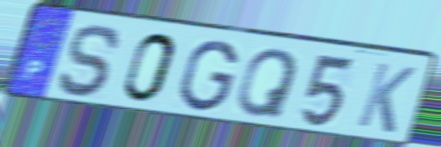0: (120, 31, 177, 106)
5: (297, 51, 360, 129)
G: (176, 38, 240, 114)
K: (353, 59, 419, 136)
Q: (234, 46, 302, 121)
S: (55, 22, 125, 100)
